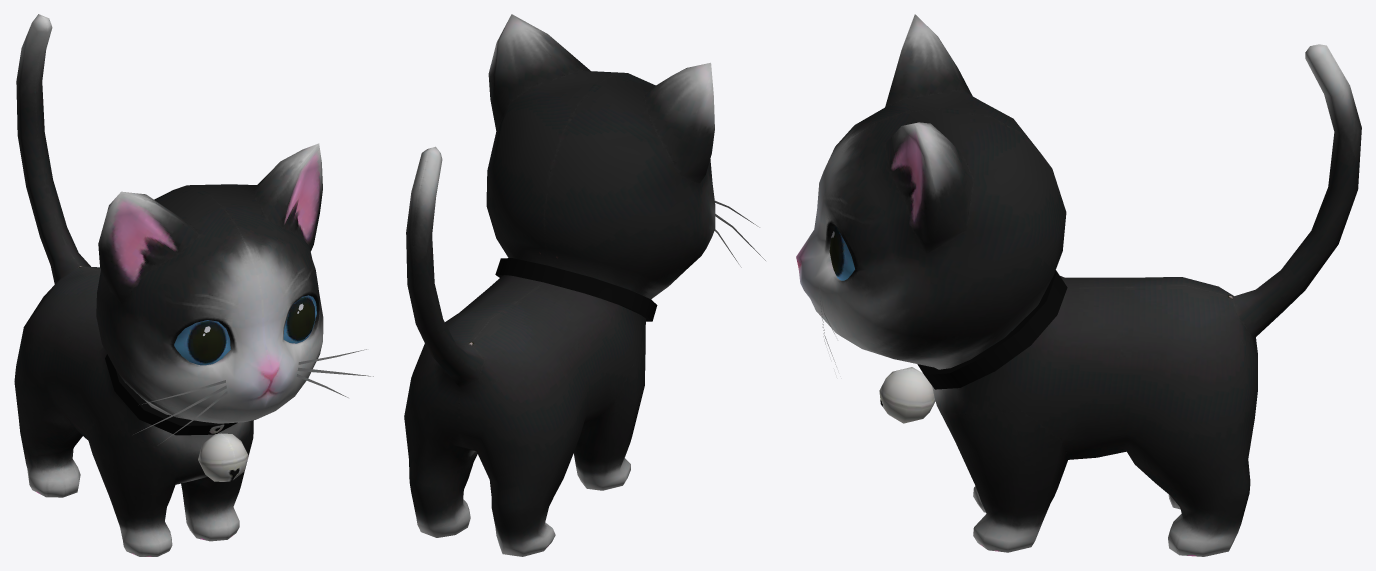
Rendered from cat.glb.
The picture shows the model from 3 angles, left to right: view 1: azimuth 30°, elevation 25°; view 2: azimuth 150°, elevation 25°; view 3: azimuth 270°, elevation 25°; orthographic projection. The views are drawn at different scales.
Visible parts, largest first — view 1: Nero001; view 2: Nero001; view 3: Nero001.
Part boxes in pixels (x1=…): Nero001: x1=14, y1=14, x2=373, y2=556; Nero001: x1=404, y1=14, x2=765, y2=556; Nero001: x1=796, y1=14, x2=1361, y2=556.
Bounding box in the file's own units: 0.3015 × 0.4935 × 0.5281.
Materials: 1 (1 with a texture image).
